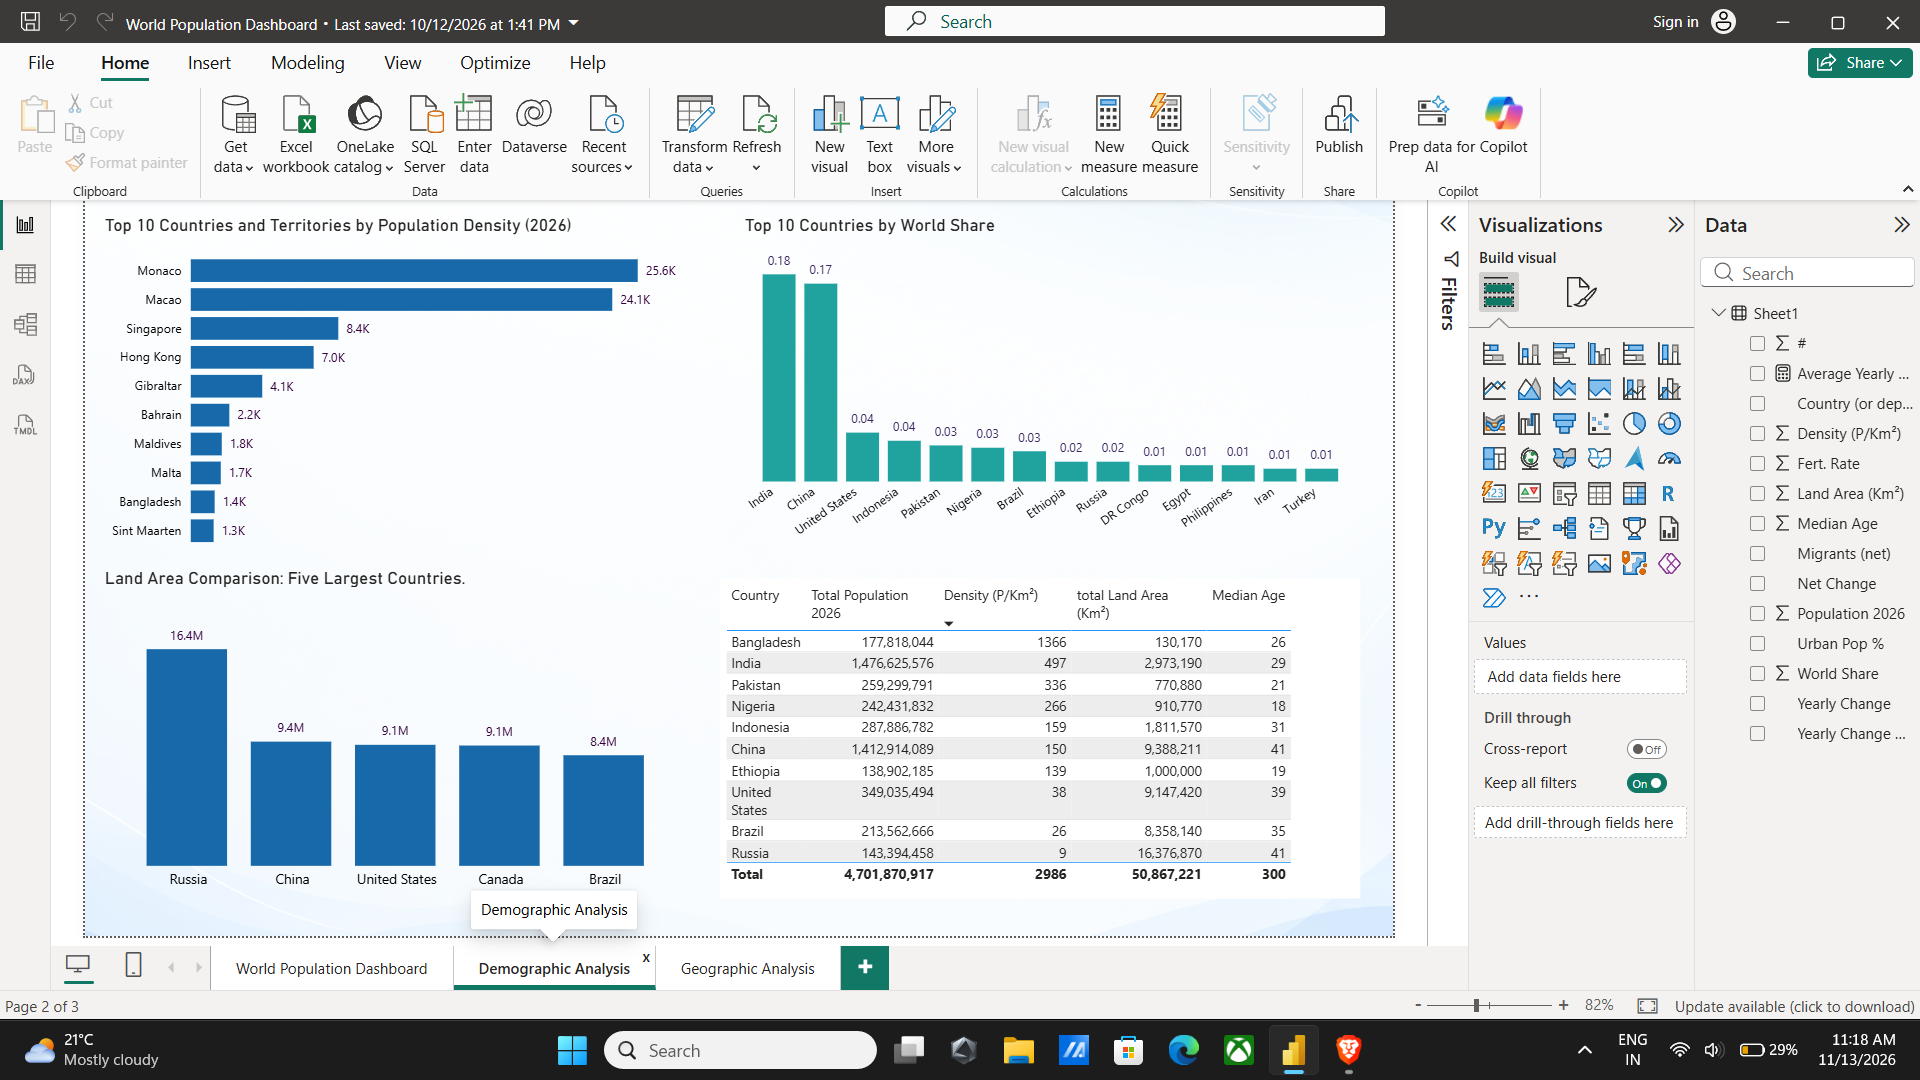

What the dashboard file says about the page in this screenshot:
{"tool":"powerbi","page":{"name":"Demographic Analysis","canvas":[1280,720],"ordinal":1},"visuals":[{"type":"barChart","title":"Top 10 Countries and Territories by Population Density (2026)","fields":{"Category":["Sheet1.Country (or dependency)"],"Y":["Sum(Sheet1.Density (P/Km²))"]},"box":[14.3,14.3,607.1,336.9],"z":0},{"type":"columnChart","title":"Top 10 Countries by World Share","fields":{"Category":["Sheet1.Country (or dependency)"],"Y":["Sum(Sheet1.World Share)"]},"box":[640.5,14.3,607.1,336.9],"z":1000},{"type":"columnChart","title":"Land Area Comparison: Five Largest Countries.","fields":{"Category":["Sheet1.Country (or dependency)"],"Y":["Sum(Sheet1.Land Area (Km²))"]},"box":[14.7,359.5,580.8,324.1],"z":2000},{"type":"tableEx","fields":{"Values":["Sheet1.Country (or dependency)","Sum(Sheet1.Population 2026)","Sum(Sheet1.Density (P/Km²))","Sum(Sheet1.Land Area (Km²))","Sum(Sheet1.Median Age)"]},"box":[621.4,370.2,626.2,313.1],"z":3000},{"type":"bookmarkNavigator","box":[0,0,600,50],"z":4000}]}

Visuals, with their boxes on the page's 1280x720 design canvas (x1, y1, x2, y2). These are canvas units, not pixel positions in the 1920x1080 screenshot, which may show the page scaled, cropped or inside an application window:
"Top 10 Countries and Territories by Population Density (2026)" barChart: 14:14:621:351
"Top 10 Countries by World Share" columnChart: 640:14:1248:351
"Land Area Comparison: Five Largest Countries." columnChart: 15:360:596:684
tableEx - Sheet1.Country (or dependency) x Sum(Sheet1.Population 2026): 621:370:1248:683
bookmarkNavigator: 0:0:600:50
